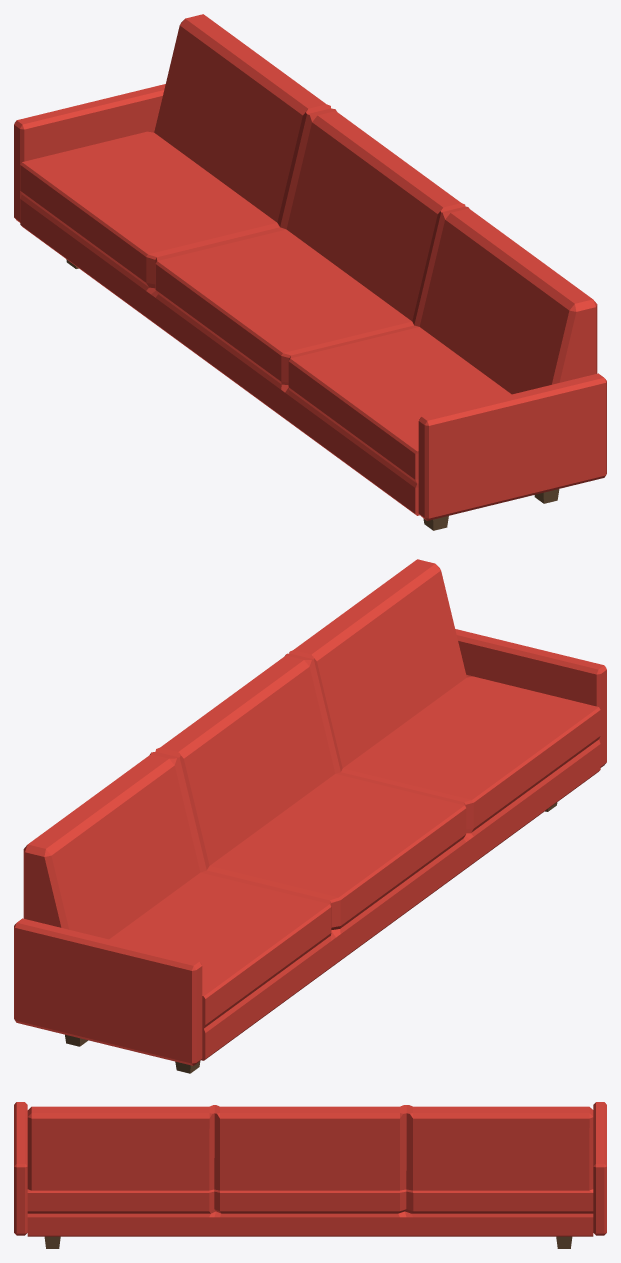
The model's file is couch.fbx.
3 renders of one model, top to bottom at view 1: azimuth 30°, elevation 25°; view 2: azimuth 150°, elevation 25°; view 3: azimuth 270°, elevation 25°, orthographic. The views are drawn at different scales.
Parts seen in each view (by area): view 1: couch_export; view 2: couch_export; view 3: couch_export.
Part boxes in pixels (bbox=[...]): couch_export: bbox=[14, 14, 606, 530]; couch_export: bbox=[14, 559, 606, 1073]; couch_export: bbox=[14, 1102, 606, 1248].
Bounding box in the file's own units: 134 × 139 × 515.
